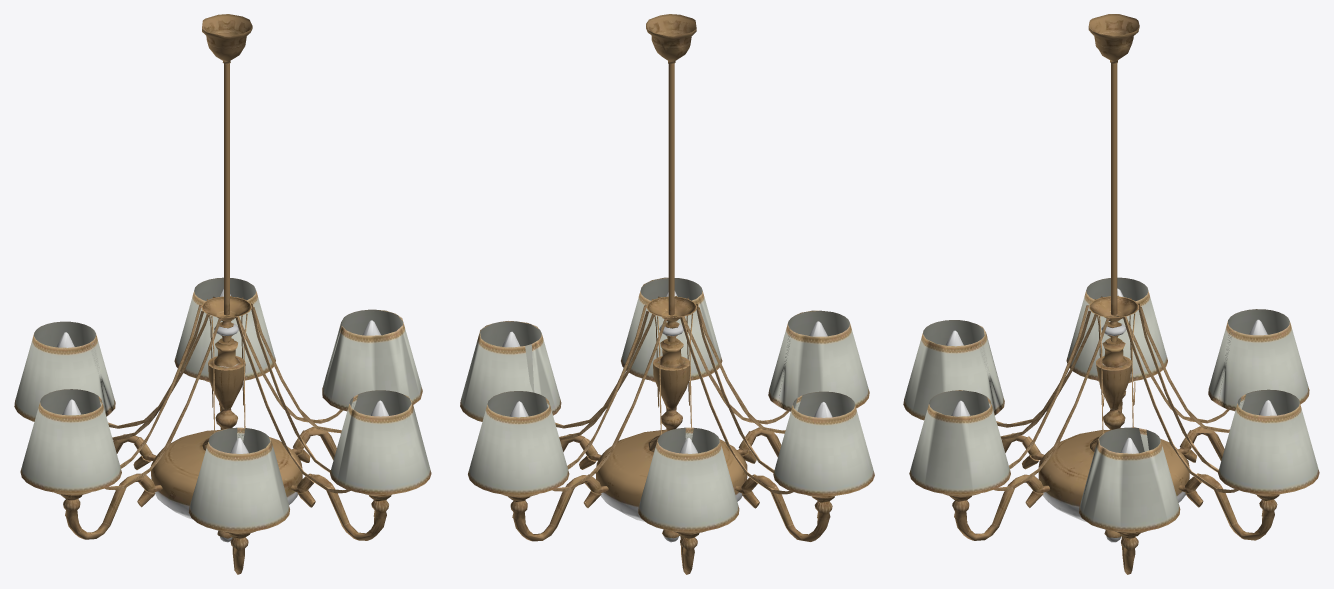
The model's file is Chandelier_02.glb.
3 views of the same model, side by side, from view 1: azimuth 30°, elevation 25°; view 2: azimuth 150°, elevation 25°; view 3: azimuth 270°, elevation 25° (orthographic).
Visible parts, largest first — view 1: Chandelier_02; view 2: Chandelier_02; view 3: Chandelier_02.
Part boxes in pixels (x1=…): Chandelier_02: x1=14, y1=14, x2=431, y2=574; Chandelier_02: x1=460, y1=14, x2=874, y2=574; Chandelier_02: x1=903, y1=14, x2=1319, y2=574.
Bounding box in the file's own units: 0.6788 × 0.8481 × 0.6191.
2 materials, 1 textured.
